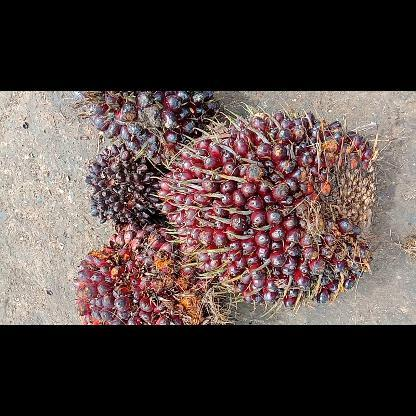Kurang masak: (156, 110, 378, 308), (75, 92, 221, 164)
TBS abnormal: (81, 142, 165, 228)
TBS masak: (70, 228, 207, 324)
